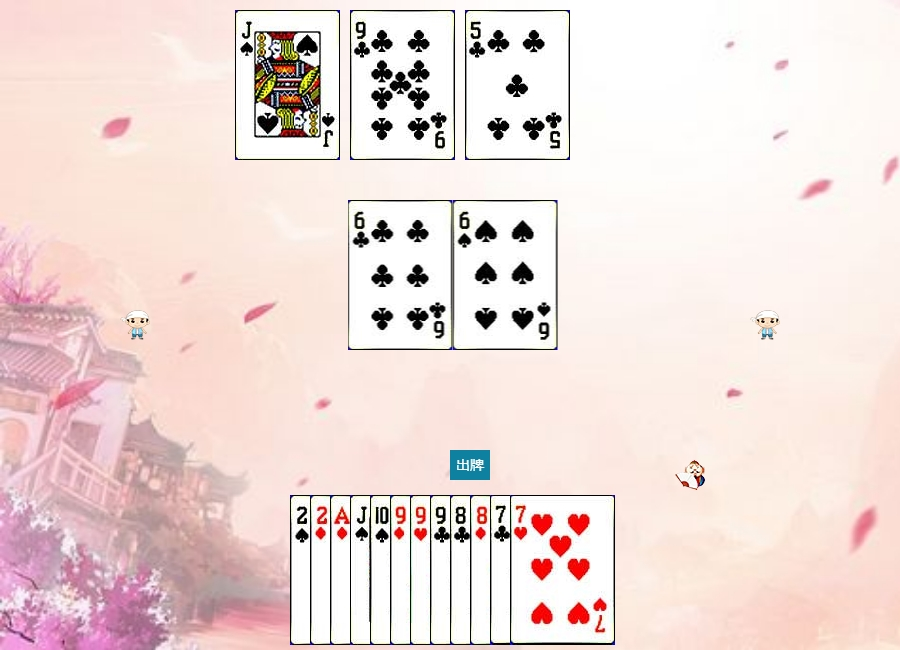10~4: (370, 495, 475, 645)
11~4: (235, 10, 340, 160), (350, 495, 455, 645)
14~1: (330, 495, 435, 645)
15~1: (310, 495, 415, 645)
15~4: (290, 495, 395, 645)
5~2: (465, 10, 570, 160)
6~2: (348, 200, 453, 350)
6~4: (453, 200, 558, 350)
7~2: (490, 495, 595, 645)
7~3: (510, 495, 615, 645)
8~1: (470, 495, 575, 645)
8~2: (450, 495, 555, 645)
9~1: (390, 495, 495, 645)
9~2: (350, 10, 455, 160), (430, 495, 535, 645)
9~3: (410, 495, 515, 645)
